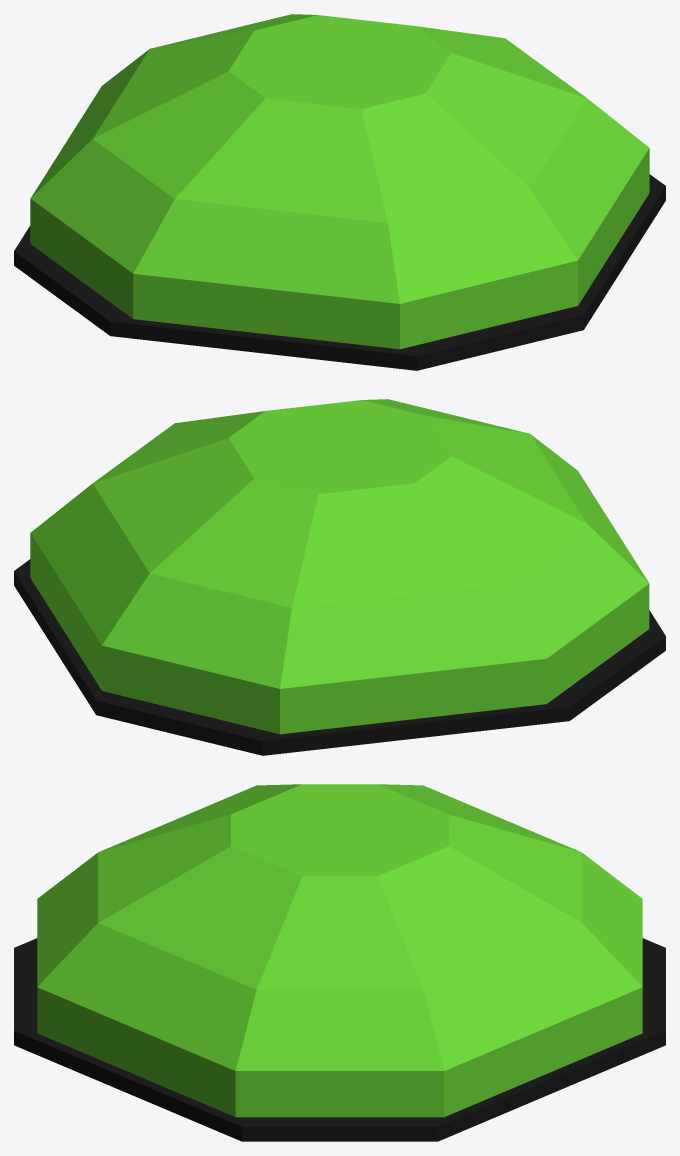
File: OutsideCupule_01.fbx
3 views of the same model, one above another, from view 1: azimuth 30°, elevation 25°; view 2: azimuth 150°, elevation 25°; view 3: azimuth 270°, elevation 25° (orthographic).
Parts seen in each view (by area): view 1: Line143, Line142; view 2: Line143, Line142; view 3: Line143, Line142.
Boxes of the visible parts, box(x1,y1,x2,y2) form: Line143: box(30, 14, 649, 349); Line142: box(14, 174, 665, 370); Line143: box(30, 399, 649, 734); Line142: box(14, 559, 665, 755); Line143: box(37, 784, 642, 1117); Line142: box(14, 938, 665, 1141).
Size of the model in its own units: 787 by 787 by 231.
